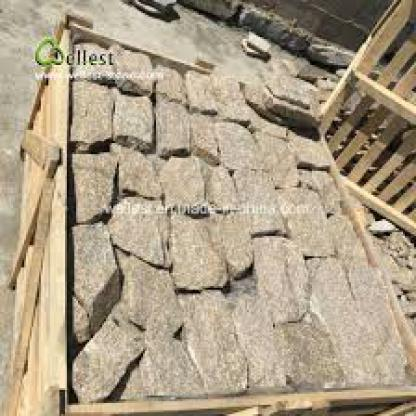Metamorphic_Quartize: (249, 232, 321, 323), (182, 308, 256, 394), (167, 206, 230, 294), (110, 134, 169, 206), (210, 108, 264, 171), (71, 80, 117, 148), (152, 91, 192, 158)
